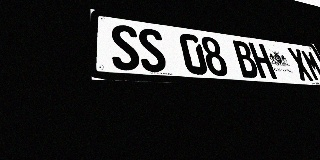0: (178, 33, 209, 75)
8: (199, 36, 230, 76)
B: (231, 40, 261, 78)
H: (248, 42, 277, 79)
M: (300, 49, 320, 82)
S: (110, 23, 141, 71), (137, 27, 168, 73)
X: (286, 47, 315, 81)
